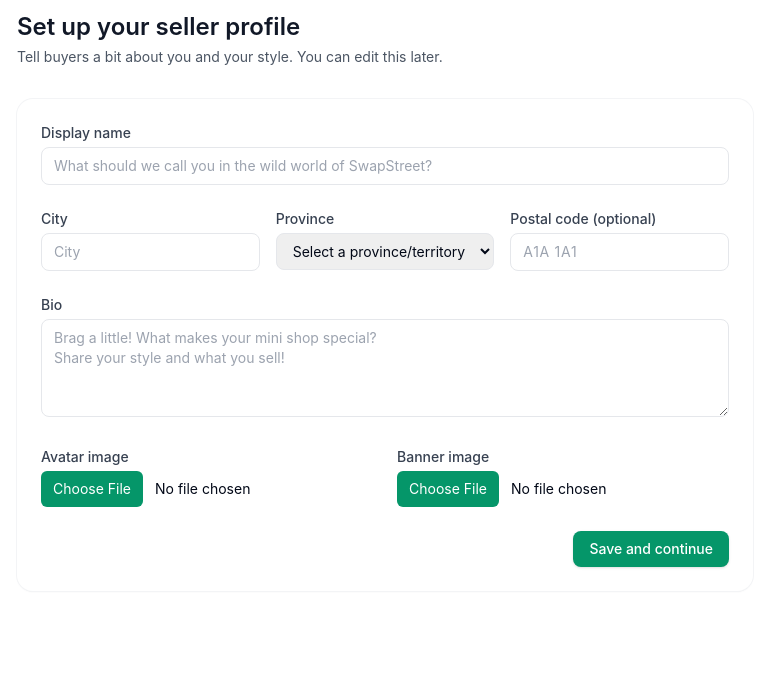
SellerOnboardingPage › shows error if province is not selected
In the field with placeholder "What should we call you in the wild world of SwapStreet?": (385, 166) x1=41 y1=147 x2=729 y2=185, type "Seller Name"
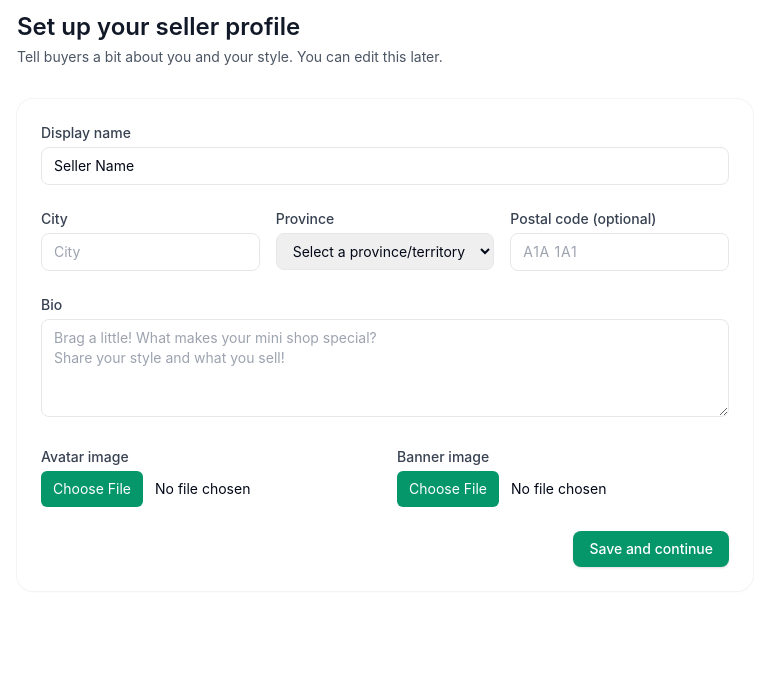
In the field with placeholder "City": (150, 252) x1=41 y1=233 x2=260 y2=271, type "Toronto"
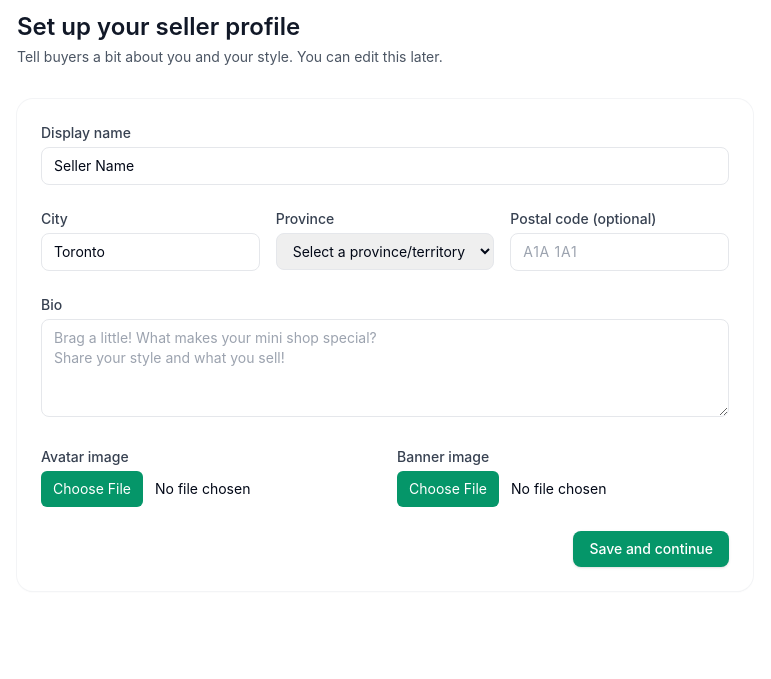
Submit the form named "save and continue"
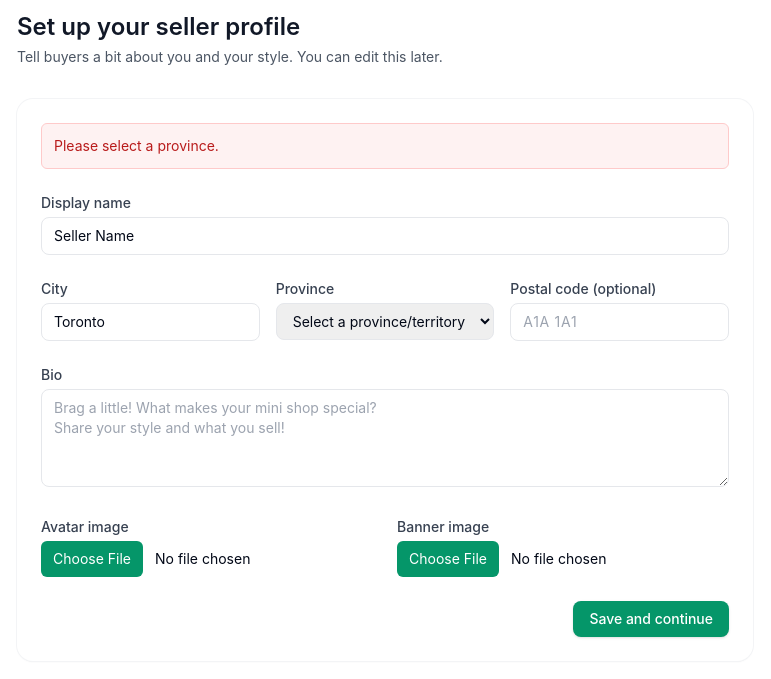
Check: the text "Please select a province." is shown, box x1=41 y1=123 x2=729 y2=169
